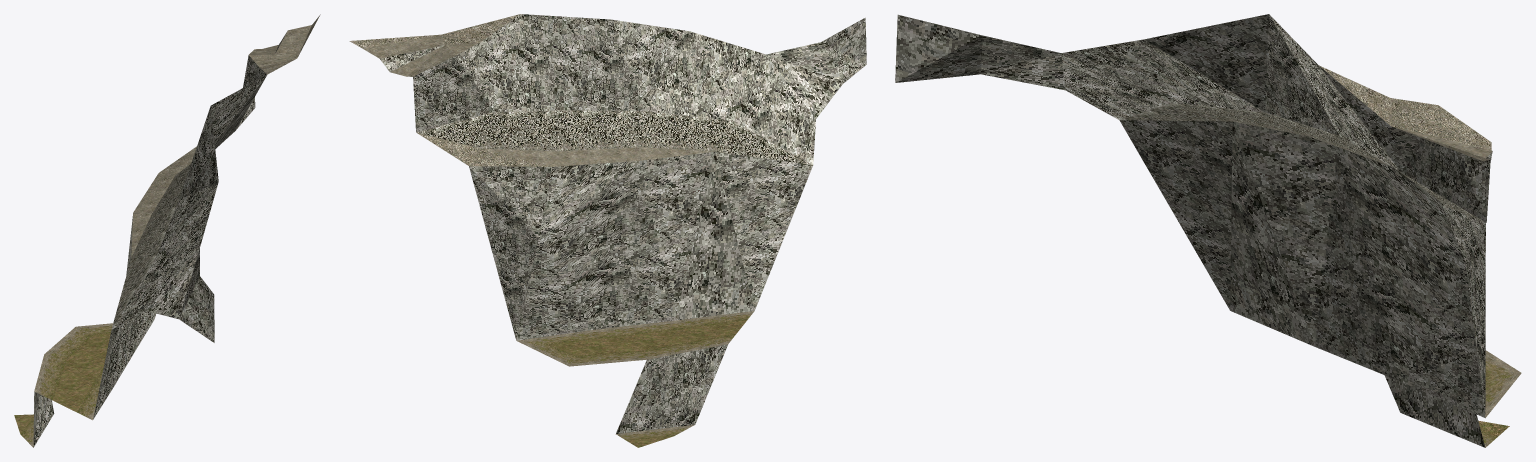
The model's file is lod_cs_landbit_15.obj.
3 renders of one model, left to right at view 1: azimuth 30°, elevation 25°; view 2: azimuth 150°, elevation 25°; view 3: azimuth 270°, elevation 25°, orthographic. The views are drawn at different scales.
Parts seen in each view (by area): view 1: lod_cs_landbit_15; view 2: lod_cs_landbit_15; view 3: lod_cs_landbit_15.
Part boxes in pixels (x1=…): lod_cs_landbit_15: x1=14, y1=14, x2=320, y2=447; lod_cs_landbit_15: x1=349, y1=14, x2=866, y2=447; lod_cs_landbit_15: x1=895, y1=14, x2=1521, y2=447.
Bounding box in the file's own units: 207 × 200 × 232.
5 materials, 5 textured.
